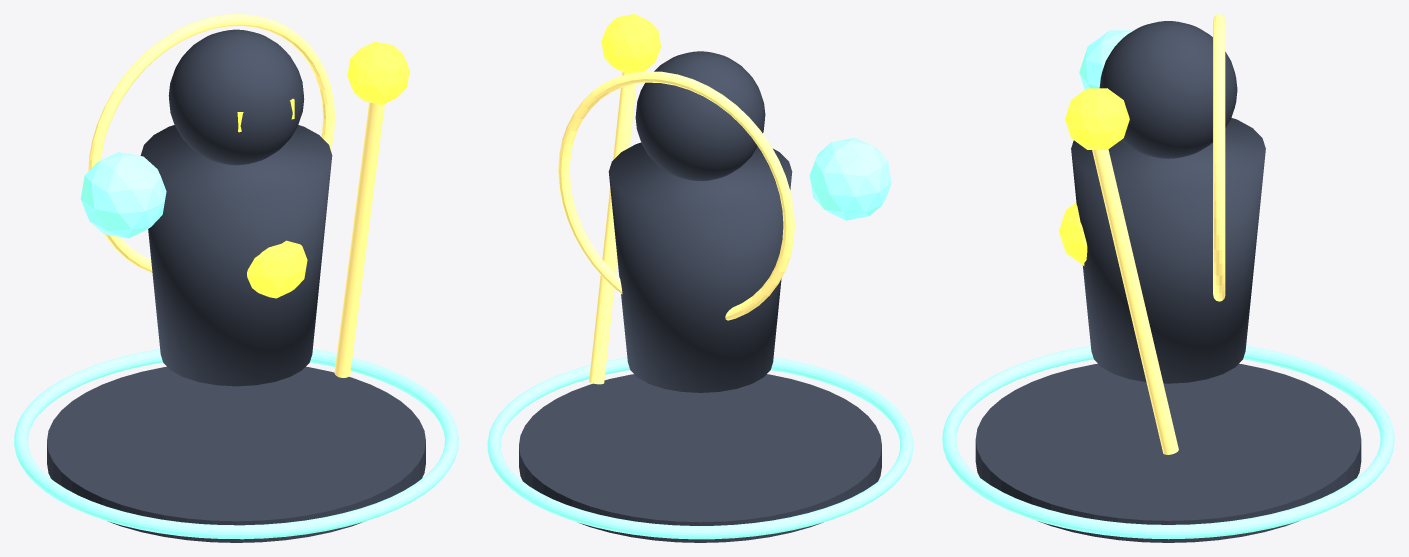
The model's file is pixel-shiba.glb.
3 renders of one model, left to right at view 1: azimuth 30°, elevation 25°; view 2: azimuth 150°, elevation 25°; view 3: azimuth 270°, elevation 25°, orthographic. The views are drawn at different scales.
Visible parts, largest first — view 1: AbilityPedestal, AgentTorso, AgentHead, AbilityAuraRing, Pet_PIXEL-SHIBA, SovereignHalo, SignatureWeapon, WeaponApex, AgentCore; view 2: AbilityPedestal, AgentTorso, AgentHead, AbilityAuraRing, SovereignHalo, Pet_PIXEL-SHIBA, SignatureWeapon, WeaponApex; view 3: AbilityPedestal, AgentTorso, AgentHead, AbilityAuraRing, SignatureWeapon, SovereignHalo, WeaponApex, Pet_PIXEL-SHIBA, AgentCore.
Boxes of the visible parts, x1,y1,x2,y2 form: AbilityPedestal: (47, 366, 425, 542); AgentTorso: (140, 125, 332, 386); AgentHead: (168, 29, 304, 165); AbilityAuraRing: (14, 349, 458, 539); Pet_PIXEL-SHIBA: (80, 152, 166, 238); SovereignHalo: (88, 14, 334, 272); SignatureWeapon: (334, 102, 384, 377); WeaponApex: (347, 42, 409, 104); AgentCore: (247, 240, 307, 298); AbilityPedestal: (519, 374, 881, 542); AgentTorso: (608, 142, 792, 392); AgentHead: (635, 51, 765, 181); AbilityAuraRing: (487, 357, 913, 539); SovereignHalo: (558, 71, 794, 320); Pet_PIXEL-SHIBA: (809, 137, 891, 220); SignatureWeapon: (589, 72, 636, 384); WeaponApex: (601, 14, 660, 74); AbilityPedestal: (975, 363, 1361, 542); AgentTorso: (1071, 118, 1265, 383); AgentHead: (1099, 21, 1237, 158); AbilityAuraRing: (942, 345, 1394, 539); SignatureWeapon: (1092, 149, 1178, 454); SovereignHalo: (1213, 14, 1225, 301); WeaponApex: (1065, 88, 1129, 149); Pet_PIXEL-SHIBA: (1079, 30, 1133, 89); AgentCore: (1059, 203, 1087, 265).
Size of the model in its own units: 2.23 by 2.36 by 2.23.
